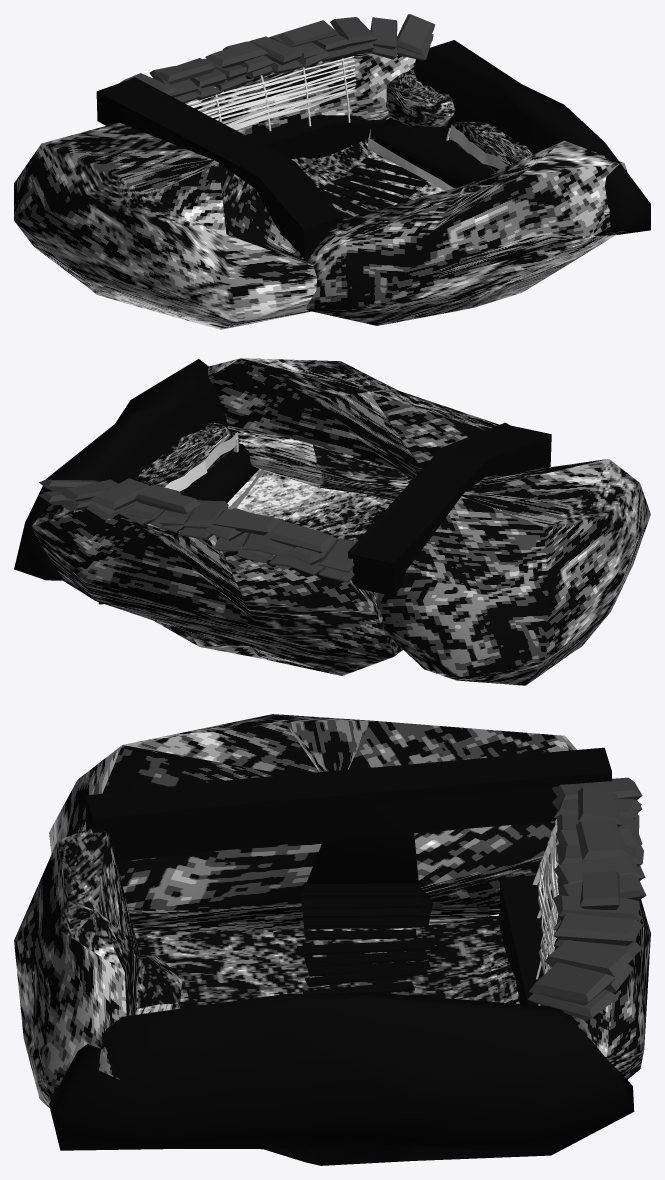
The model's file is trench_3_maybetextures.fbx.
3 renders of one model, top to bottom at view 1: azimuth 30°, elevation 25°; view 2: azimuth 150°, elevation 25°; view 3: azimuth 270°, elevation 25°, orthographic. The views are drawn at different scales.
Visible parts, largest first — view 1: polySurface126; view 2: polySurface126; view 3: polySurface126.
Part boxes in pixels (box(x1,y1,x2,y2)): polySurface126: box(14, 14, 650, 329); polySurface126: box(14, 358, 650, 685); polySurface126: box(14, 714, 650, 1165).
Bounding box in the file's own units: 23.34 × 6.23 × 17.73.
Materials: 12 (6 with a texture image).
